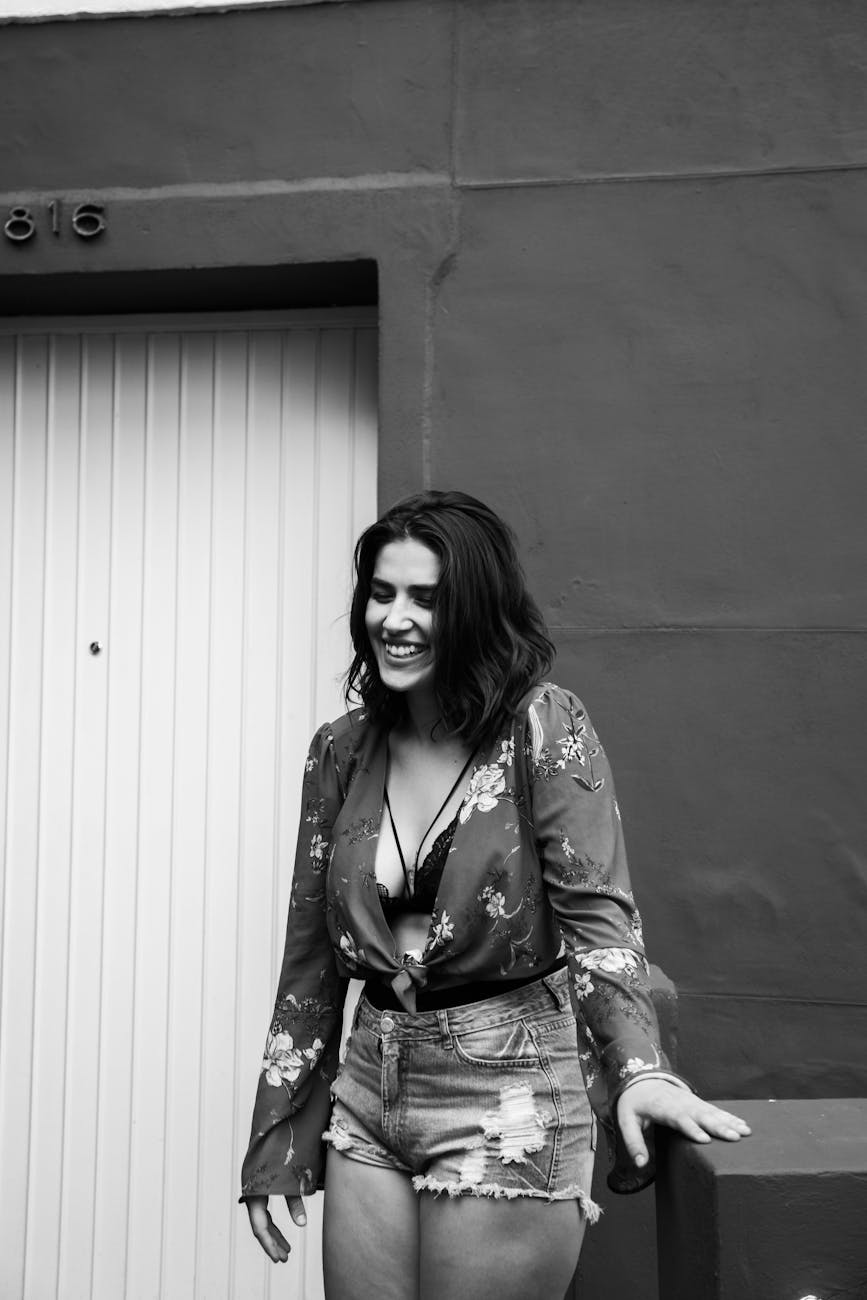crop_top: (336, 801, 539, 928)
shorts: (313, 994, 606, 1203)
